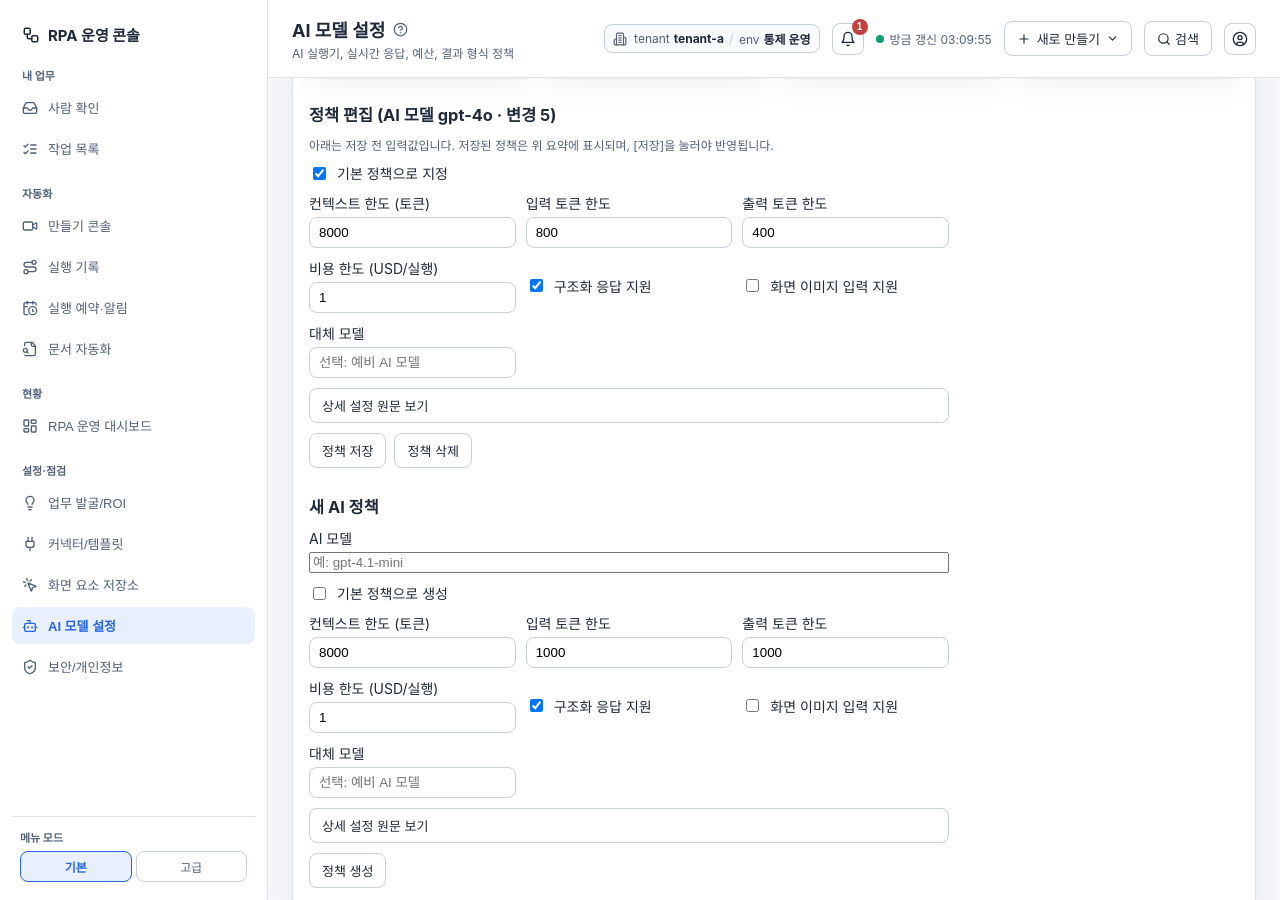
LLM 게이트웨이 정책 — 목록·기본·CRUD › admin gateway 편집: 버전 충돌 → POLICY_VERSION_CONFLICT 표면화
The image size is (1280, 900).
(page scrolled)
Step 1. Click the button "정책 저장" → (348, 450), box x1=309 y1=433 x2=386 y2=468
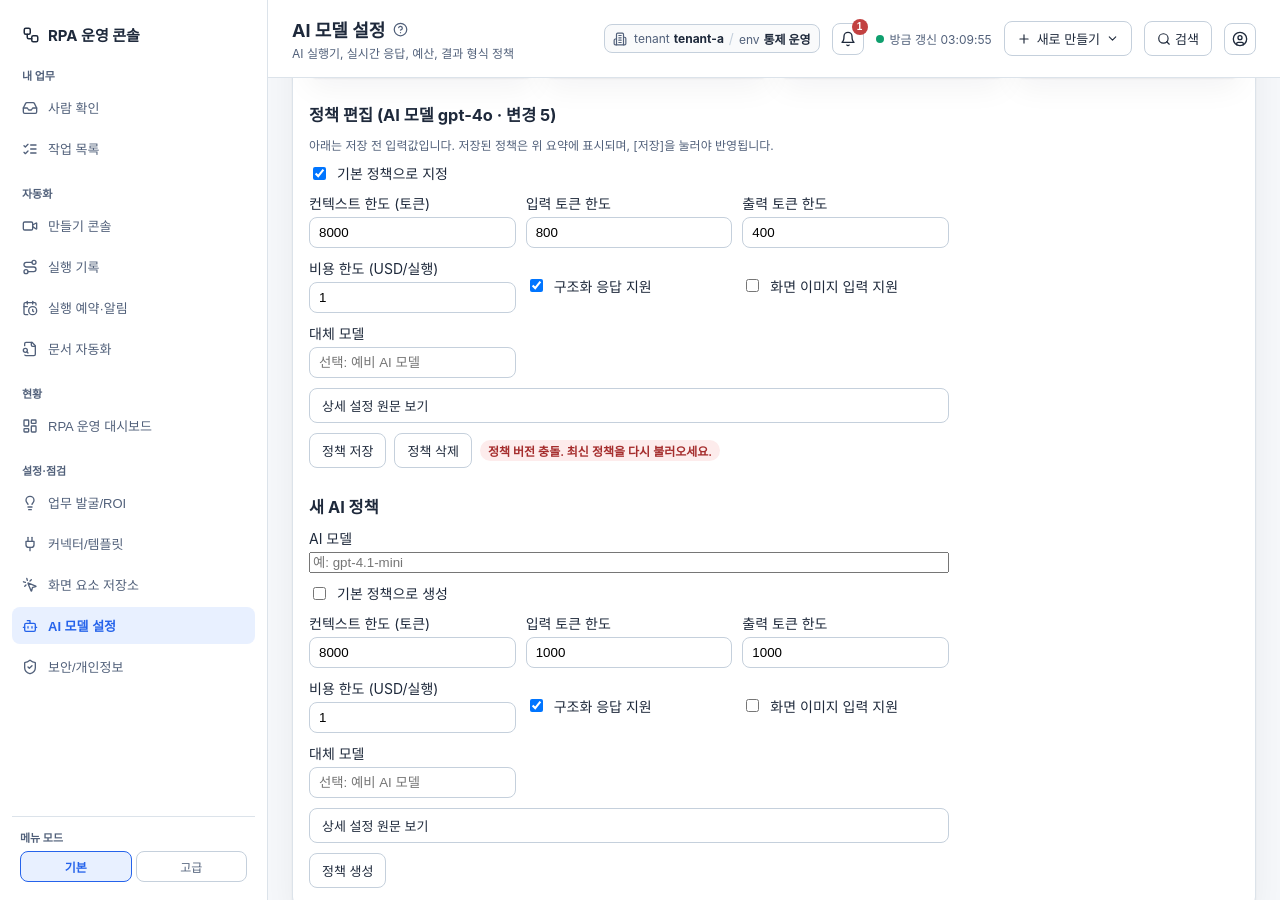
Check: the text "정책 버전 충돌. 최신 정책을 다시 불러오세요." is shown, box x1=480 y1=440 x2=720 y2=461
